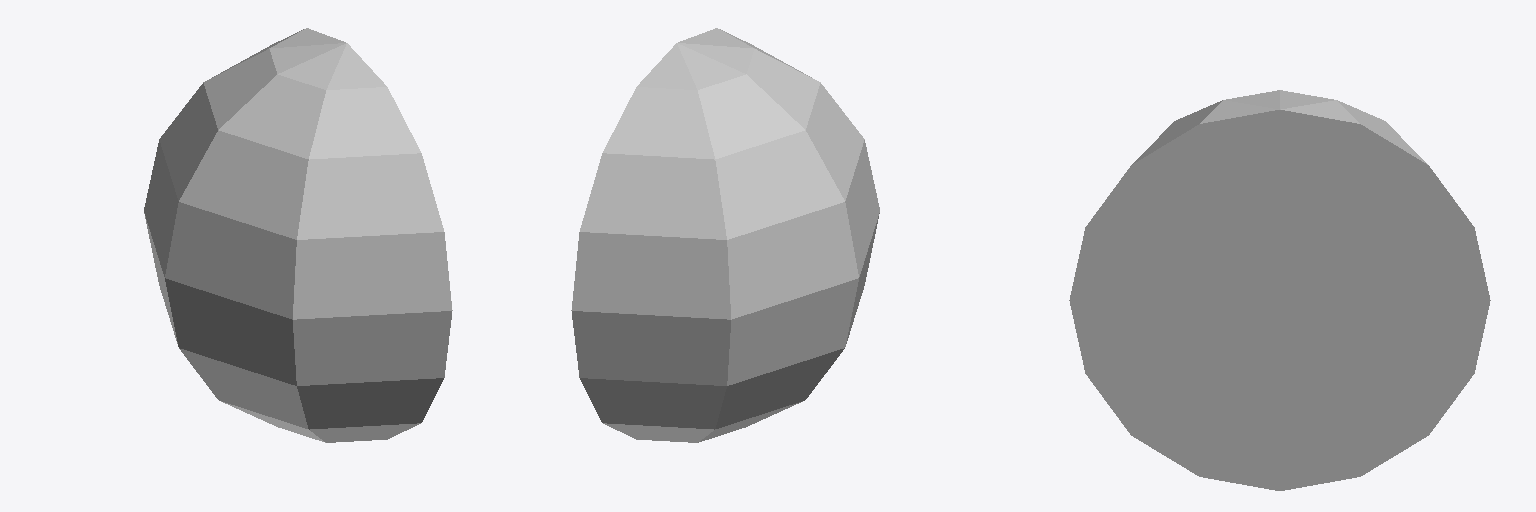
File: OnionHalf.obj
The picture shows the model from 3 angles: view 1: azimuth 30°, elevation 25°; view 2: azimuth 150°, elevation 25°; view 3: azimuth 270°, elevation 25°; orthographic projection.
Parts seen in each view (by area): view 1: pSphere1; view 2: pSphere1; view 3: pSphere1.
Part boxes in pixels (x1,y1,x2,y2): pSphere1: (144, 28, 452, 442); pSphere1: (571, 28, 879, 442); pSphere1: (1069, 90, 1490, 490).
Bounding box in the file's own units: 1 × 2 × 2.